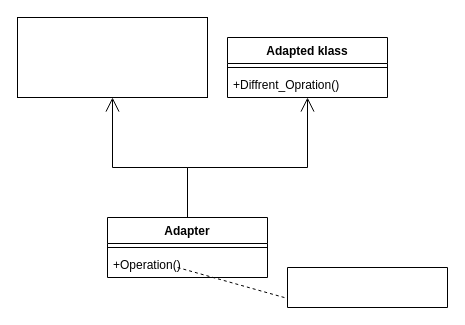
The diagram is 465 pixels wide and 325 high, and some of its shapes have lost their labels. The shapes that lost their labels are listed below. From the top down, each one's centre as x and y in pixels, then its label:
pixel 112 57: <<Interface>> IAdaptee +Operation()
pixel 367 287: this.Diffrent_Operation()
